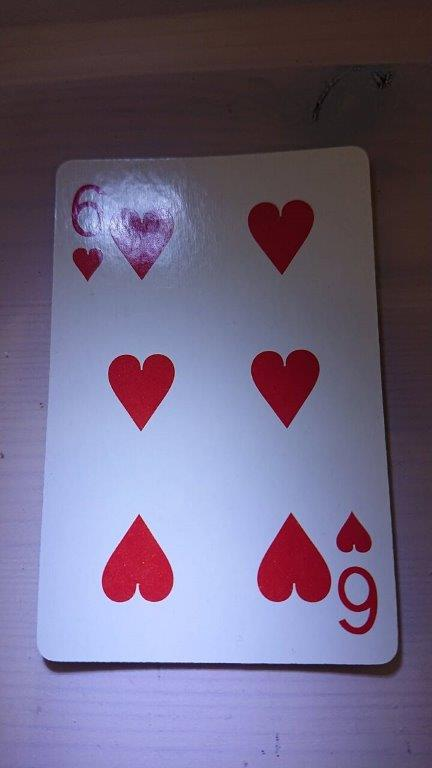6H: (34, 143, 400, 668)
